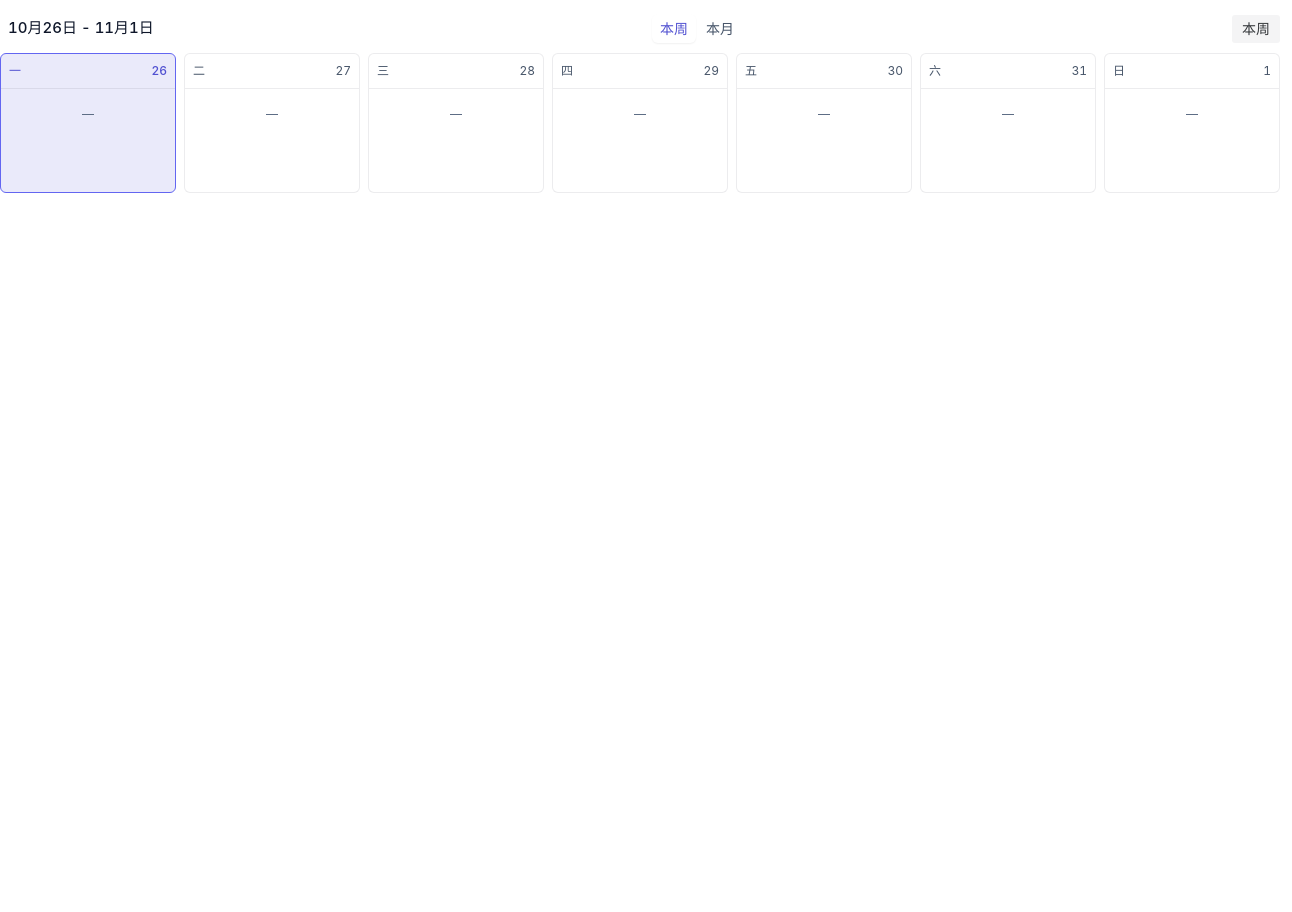
it: WeeklySchedule.vue › switches to month mode on toggle
The width and height of the screenshot is (1292, 912).
Click the radio button with test id "mode-month".
click(720, 28)  # box [698,14,742,43]
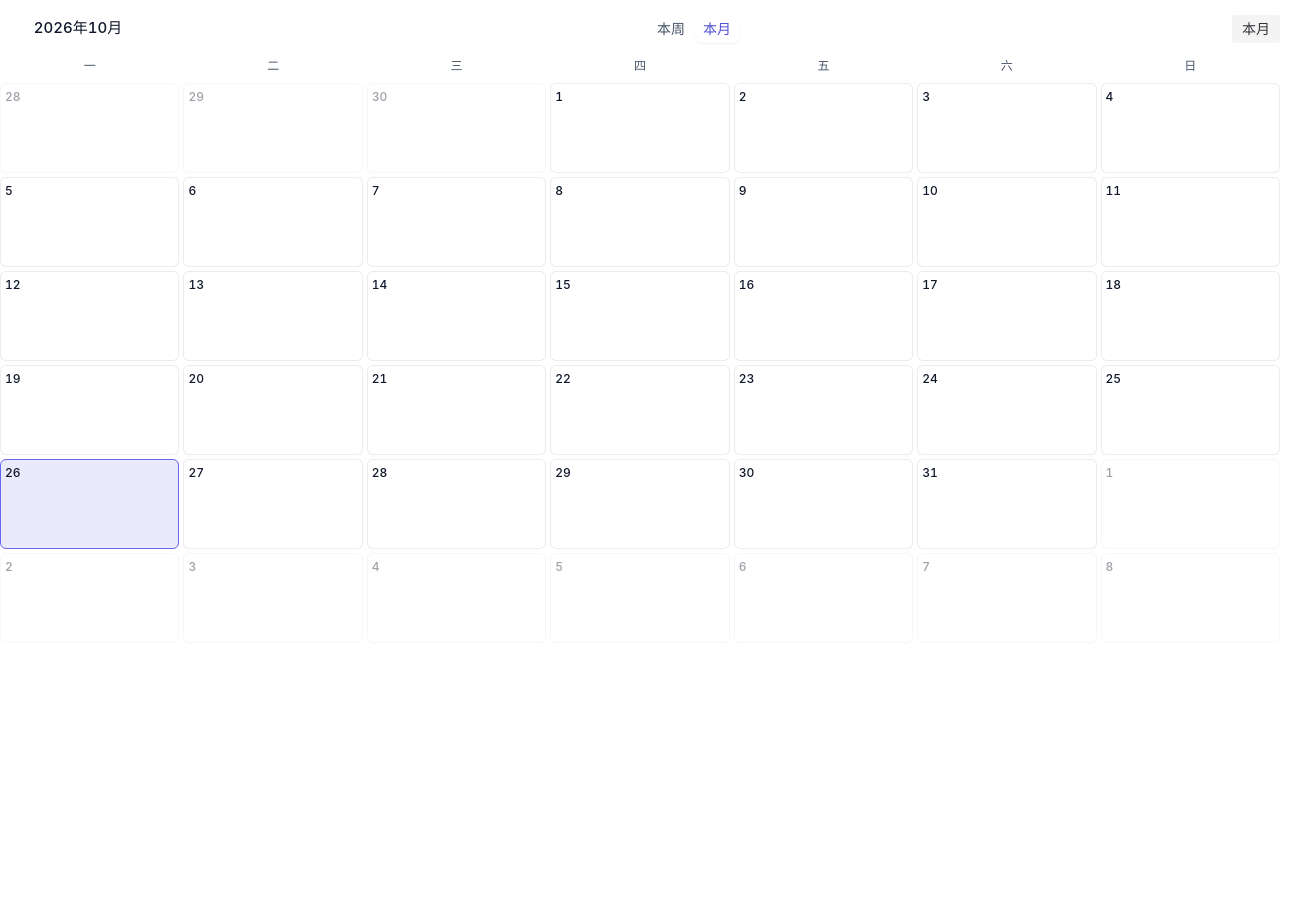
Check: the element with class "month-grid" is shown
